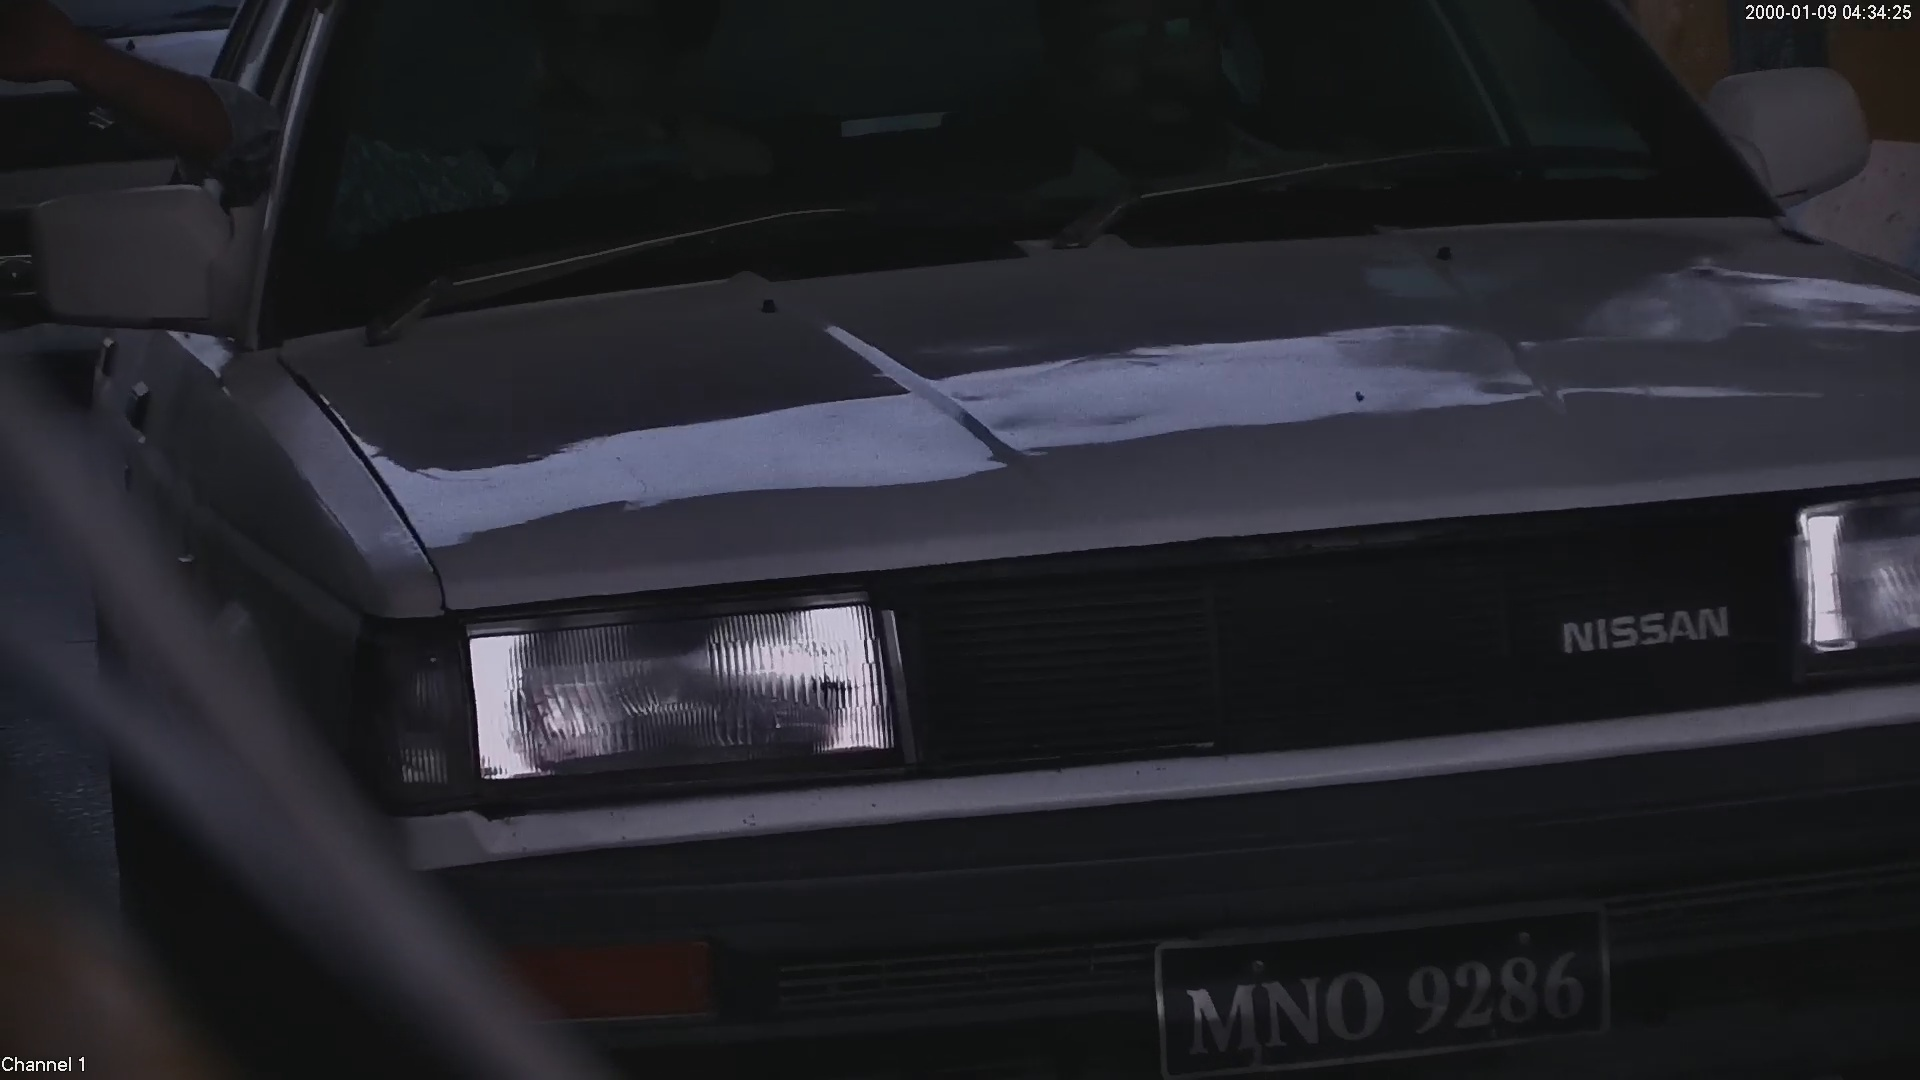Number_Plate: (1130, 901, 1619, 1073)
Undefined: (395, 599, 904, 779), (467, 912, 726, 1023), (1550, 588, 1732, 655)
